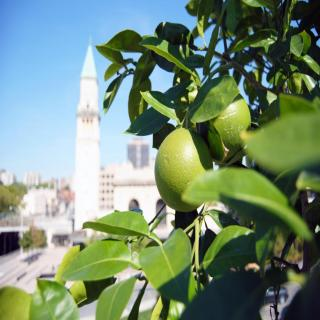Lemon: (155, 125, 212, 212), (205, 94, 252, 162)
